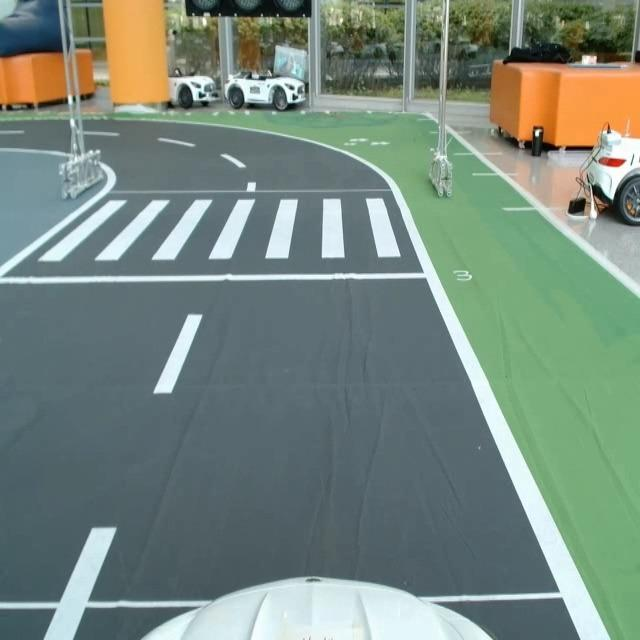traffic-light: (181, 0, 318, 21)
